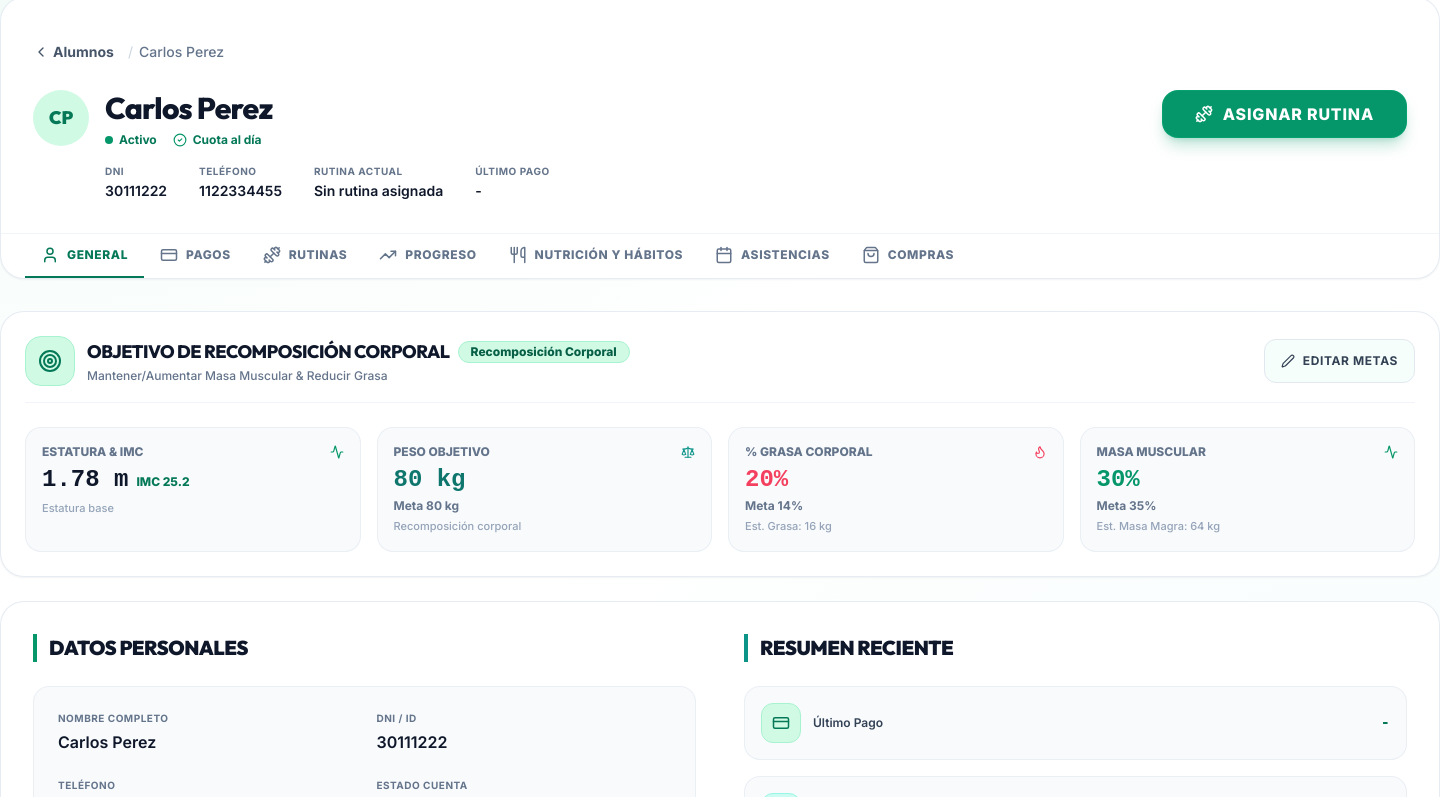
Scenario: ClientDetailPage - fechas en hora local (spec 0008) › AC-0008-15: la lista de la pestaña Progreso muestra la fecha del mismo día
Check: the heading "Carlos Perez" is shown, box [105,89,272,127]
Click the tab "Progreso": click(428, 256) [363,234,493,278]
(page scrolled)
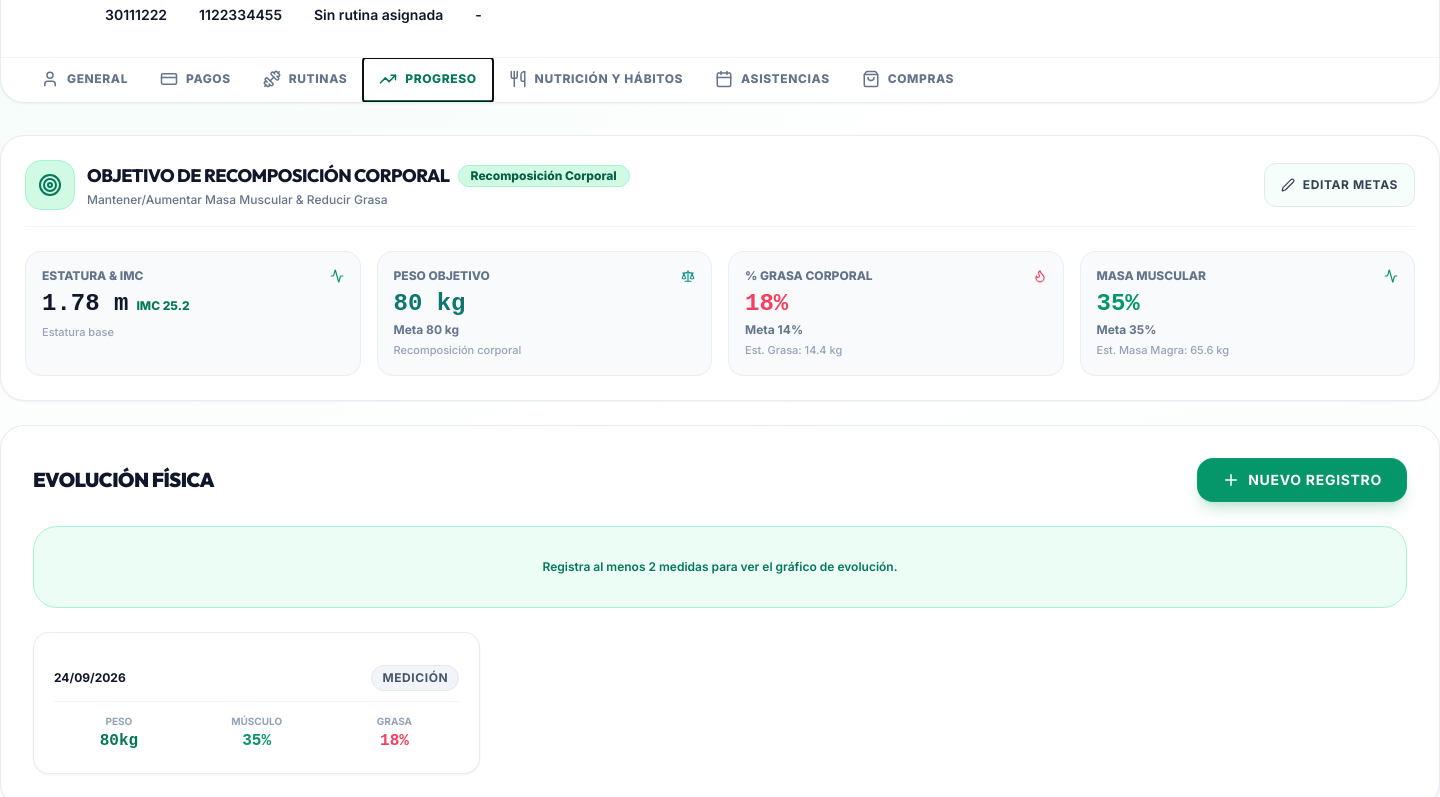
Check: the text "24/09/2026" is shown, box [54,670,126,686]
